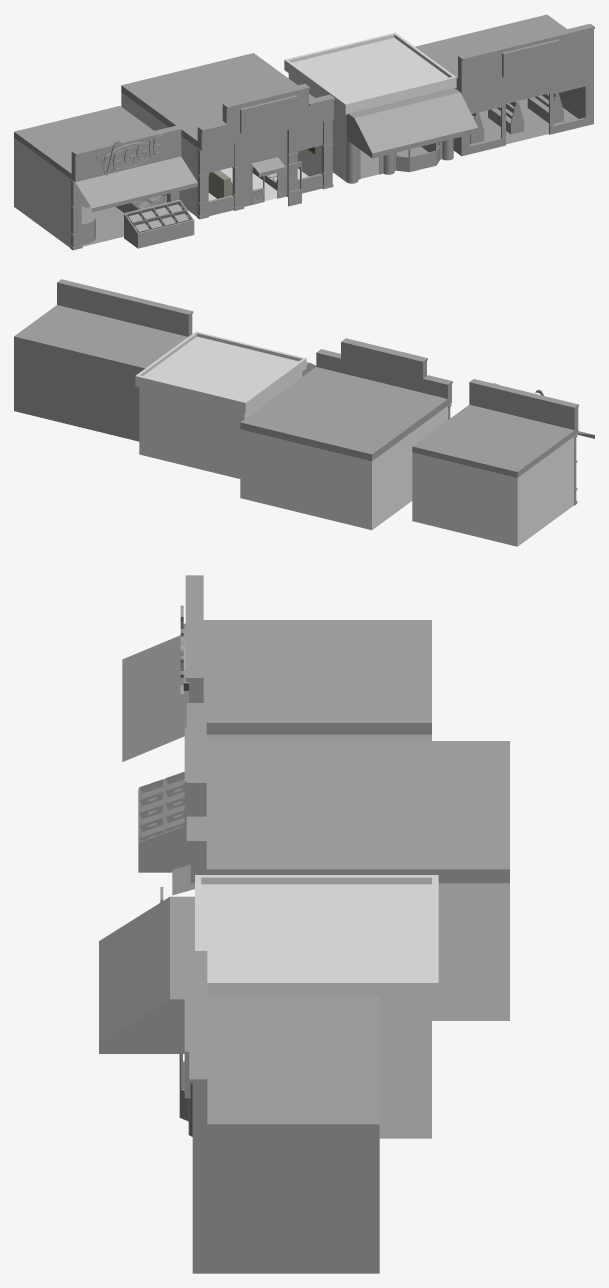
The model's file is Suppliers.fbx.
3 renders of one model, top to bottom at view 1: azimuth 30°, elevation 25°; view 2: azimuth 150°, elevation 25°; view 3: azimuth 270°, elevation 25°, orthographic. The views are drawn at different scales.
Visible parts, largest first — view 1: pCube15, Meat_Shop_Roof2, pPlane30, pCube18, pPlane42, polySurface23, polySurface16, pCube19, pPlane29, Meat_Shop_Doorframe, polySurface4, pCube24 (+28 smaller); view 2: pCube15, polySurface4, polySurface16, pPlane42, pPlane30, polySurface21, Meat_Shop_Roof2, polySurface9; view 3: pCube15, Meat_Shop_Roof2, pPlane30, pPlane42, polySurface21, pCube18, polySurface4, polySurface9, pCube19, pPlane29, polySurface16.
Boxes of the visible parts, box(x1,y1,x2,y2) form: pCube15: box(121, 53, 334, 150); Meat_Shop_Roof2: box(284, 32, 456, 114); pPlane30: box(14, 106, 181, 182); pCube18: box(347, 88, 478, 158); pPlane42: box(415, 14, 594, 86); polySurface23: box(460, 55, 593, 156); polySurface16: box(14, 138, 70, 247); pCube19: box(75, 156, 197, 212); pPlane29: box(124, 199, 194, 248); Meat_Shop_Doorframe: box(243, 130, 287, 206); polySurface4: box(121, 92, 197, 216); pCube24: box(502, 39, 559, 77); pCube15: box(240, 338, 452, 461); polySurface4: box(240, 406, 447, 529); polySurface16: box(412, 437, 573, 546); pPlane42: box(14, 279, 193, 372); pPlane30: box(412, 379, 578, 477); polySurface21: box(14, 342, 139, 441); Meat_Shop_Roof2: box(135, 331, 306, 412); polySurface9: box(139, 372, 302, 478); pCube15: box(186, 703, 509, 883); Meat_Shop_Roof2: box(195, 875, 438, 1003); pPlane30: box(185, 575, 431, 734); pPlane42: box(189, 951, 379, 1135); polySurface21: box(197, 1136, 379, 1273); pCube18: box(99, 896, 194, 1053); polySurface4: box(432, 883, 509, 1020); polySurface9: box(379, 1003, 431, 1138); pCube19: box(122, 635, 188, 761); pPlane29: box(138, 771, 190, 872); polySurface16: box(206, 734, 431, 740).
Bounding box in the file's own units: 39.29 × 7.76 × 13.51.
